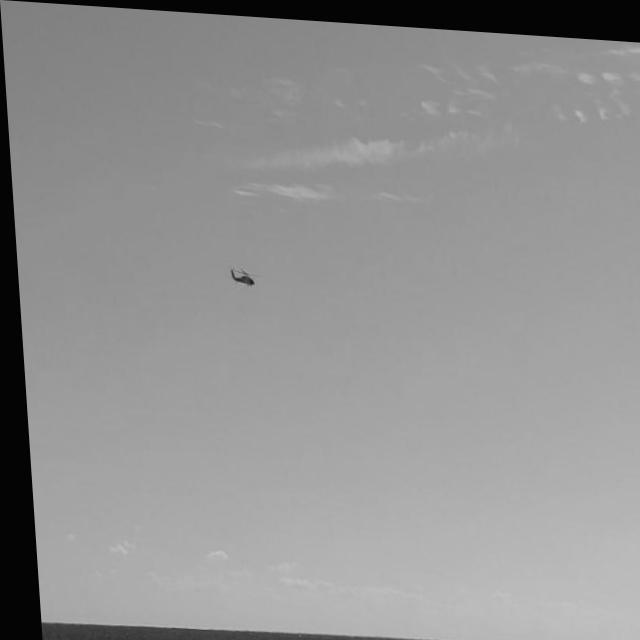helikopter: (209, 232, 286, 327)
